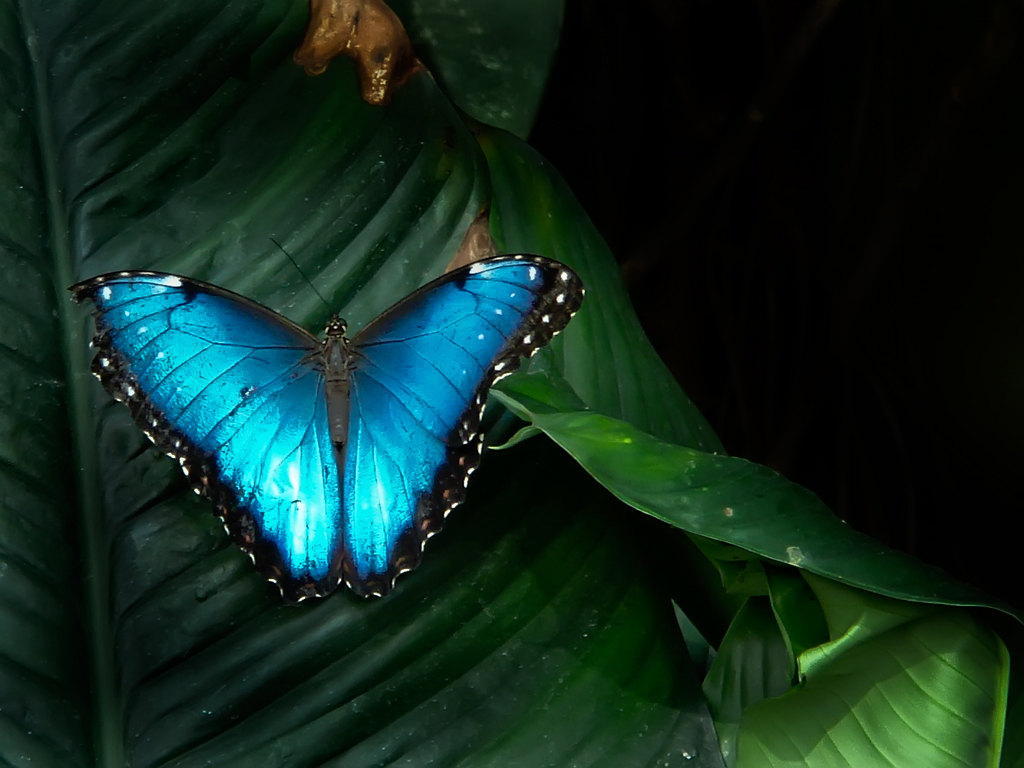Butterfly: (65, 239, 576, 600)
